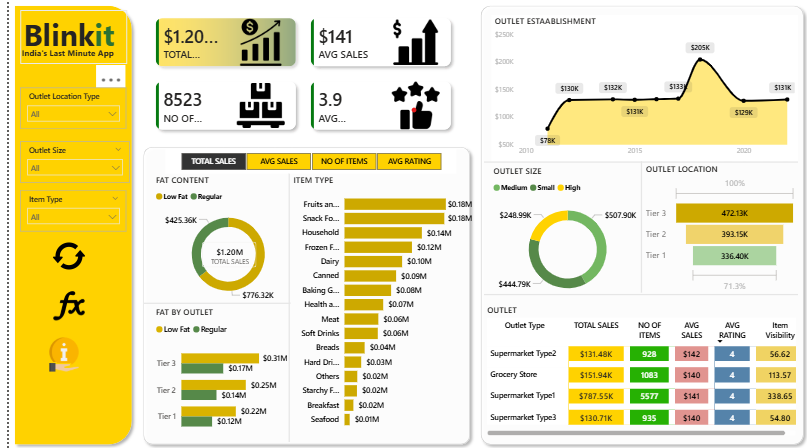

What the dashboard file says about the page in this screenshot:
{"tool":"powerbi","page":{"name":"Page 1","canvas":[1280,720],"ordinal":0},"visuals":[{"type":"shape","box":[0,0,205.4,720.2],"z":1000},{"type":"textbox","box":[8.6,69.7,172.4,31.8],"z":2000},{"type":"textbox","box":[17.1,15.9,170,85.6],"z":3000},{"type":"cardVisual","fields":{"Data":["BlinkIT Grocery Data.TOTAL SALES","BlinkIT Grocery Data.AVG SALES","BlinkIT Grocery Data.NO OF ITEMS","BlinkIT Grocery Data.AVG RATING"]},"box":[205.3,0,530.7,237.1],"z":4000},{"type":"shape","box":[205.4,226.2,540.5,494],"z":5000},{"type":"donutChart","title":"FAT CONTENT","fields":{"Y":["BlinkIT Grocery Data.TOTAL SALES"],"Category":["BlinkIT Grocery Data.Item Fat Content"]},"box":[229.9,277.6,242.1,212.8],"z":6000},{"type":"slicer","fields":{"Values":["Metrics.Metrics"]},"box":[250.7,237.2,465.9,40.4],"z":7000},{"type":"cardVisual","fields":{"Data":["BlinkIT Grocery Data.TOTAL SALES"]},"box":[291,370.5,121.1,75.8],"z":8000},{"type":"clusteredBarChart","title":"FAT BY OUTLET","fields":{"Y":["BlinkIT Grocery Data.TOTAL SALES"],"Category":["BlinkIT Grocery Data.Outlet Location Type"],"Series":["BlinkIT Grocery Data.Item Fat Content"]},"box":[229.9,490.4,220.1,216.4],"z":9000},{"type":"shape","box":[215.2,470.8,234.8,30.6],"z":10000},{"type":"shape","box":[439,277.6,20.8,429.2],"z":11000},{"type":"barChart","title":"ITEM TYPE","fields":{"Y":["BlinkIT Grocery Data.TOTAL SALES"],"Category":["BlinkIT Grocery Data.Item Type"]},"box":[450,278.8,295.9,417],"z":12000},{"type":"shape","box":[745.9,0,534.4,720.2],"z":13000},{"type":"image","title":"INFO LOGO","box":[48.9,536.8,80.7,62.4],"z":13500},{"type":"lineChart","title":"OUTLET ESTAABLISHMENT","fields":{"Y":["BlinkIT Grocery Data.TOTAL SALES"],"Category":["BlinkIT Grocery Data.Outlet Establishment Year"]},"box":[771.6,23.2,490.4,234.8],"z":14000},{"type":"shape","box":[759.4,243.3,502.6,30.6],"z":15000},{"type":"donutChart","title":"OUTLET SIZE","fields":{"Y":["BlinkIT Grocery Data.TOTAL SALES"],"Category":["BlinkIT Grocery Data.Outlet Size"]},"box":[769.2,264.1,248.2,225],"z":16000},{"type":"shape","box":[1003.9,258,15.9,210.3],"z":17000},{"type":"funnel","title":"OUTLET LOCATION ","fields":{"Y":["Sum(BlinkIT Grocery Data.Sales)"],"Category":["BlinkIT Grocery Data.Outlet Location Type"]},"box":[1013.7,259.2,250.7,212.8],"z":18000},{"type":"shape","box":[760.6,464.7,502.6,14.7],"z":19000},{"type":"pivotTable","title":"OUTLET","fields":{"Rows":["BlinkIT Grocery Data.Outlet Type"],"Values":["BlinkIT Grocery Data.TOTAL SALES","BlinkIT Grocery Data.NO OF ITEMS","BlinkIT Grocery Data.AVG SALES","BlinkIT Grocery Data.AVG RATING","Sum(BlinkIT Grocery Data.Item Visibility)"]},"box":[760.6,486.7,503.8,216.4],"z":20000},{"type":"slicer","fields":{"Values":["BlinkIT Grocery Data.Outlet Location Type"]},"box":[17.1,140.6,170,66],"z":21000},{"type":"slicer","fields":{"Values":["BlinkIT Grocery Data.Outlet Size"]},"box":[17.1,226.2,174.9,66],"z":22000},{"type":"slicer","fields":{"Values":["BlinkIT Grocery Data.Item Type"]},"box":[17.1,304.5,170,66],"z":23000},{"type":"image","title":"FX_IMAGR","box":[61.1,464.7,68.5,50.1],"z":24000},{"type":"group","id":"g1","title":"DAX_group","box":[921.2,5.4,358.8,299.9],"z":25000},{"type":"image","title":"REFRESH","box":[67.3,384,56.3,51.4],"z":27500}]}

Visuals, with their boxes in screenshot pixels (x1, y1, x2, y2), scaled from the page's 1280x720 canvas onto the 807x448 screenshot:
shape: x1=0, y1=0, x2=129, y2=447
textbox: x1=5, y1=43, x2=114, y2=63
textbox: x1=11, y1=10, x2=118, y2=63
cardVisual - BlinkIT Grocery Data.TOTAL SALES x BlinkIT Grocery Data.AVG SALES: x1=129, y1=0, x2=464, y2=148
shape: x1=129, y1=141, x2=470, y2=447
"FAT CONTENT" donutChart: x1=145, y1=173, x2=298, y2=305
slicer - Metrics.Metrics: x1=158, y1=148, x2=452, y2=173
cardVisual - BlinkIT Grocery Data.TOTAL SALES: x1=183, y1=231, x2=260, y2=278
"FAT BY OUTLET" clusteredBarChart: x1=145, y1=305, x2=284, y2=440
shape: x1=136, y1=293, x2=284, y2=312
shape: x1=277, y1=173, x2=290, y2=440
"ITEM TYPE" barChart: x1=284, y1=173, x2=470, y2=433
shape: x1=470, y1=0, x2=806, y2=447
"INFO LOGO" image: x1=31, y1=334, x2=82, y2=373
"OUTLET ESTAABLISHMENT" lineChart: x1=486, y1=14, x2=796, y2=161
shape: x1=479, y1=151, x2=796, y2=170
"OUTLET SIZE" donutChart: x1=485, y1=164, x2=641, y2=304
shape: x1=633, y1=161, x2=643, y2=291
"OUTLET LOCATION " funnel: x1=639, y1=161, x2=797, y2=294
shape: x1=480, y1=289, x2=796, y2=298
"OUTLET" pivotTable: x1=480, y1=303, x2=797, y2=437
slicer - BlinkIT Grocery Data.Outlet Location Type: x1=11, y1=87, x2=118, y2=129
slicer - BlinkIT Grocery Data.Outlet Size: x1=11, y1=141, x2=121, y2=182
slicer - BlinkIT Grocery Data.Item Type: x1=11, y1=189, x2=118, y2=231
"FX_IMAGR" image: x1=39, y1=289, x2=82, y2=320
"DAX_group" group: x1=581, y1=3, x2=806, y2=190
"REFRESH" image: x1=42, y1=239, x2=78, y2=271
